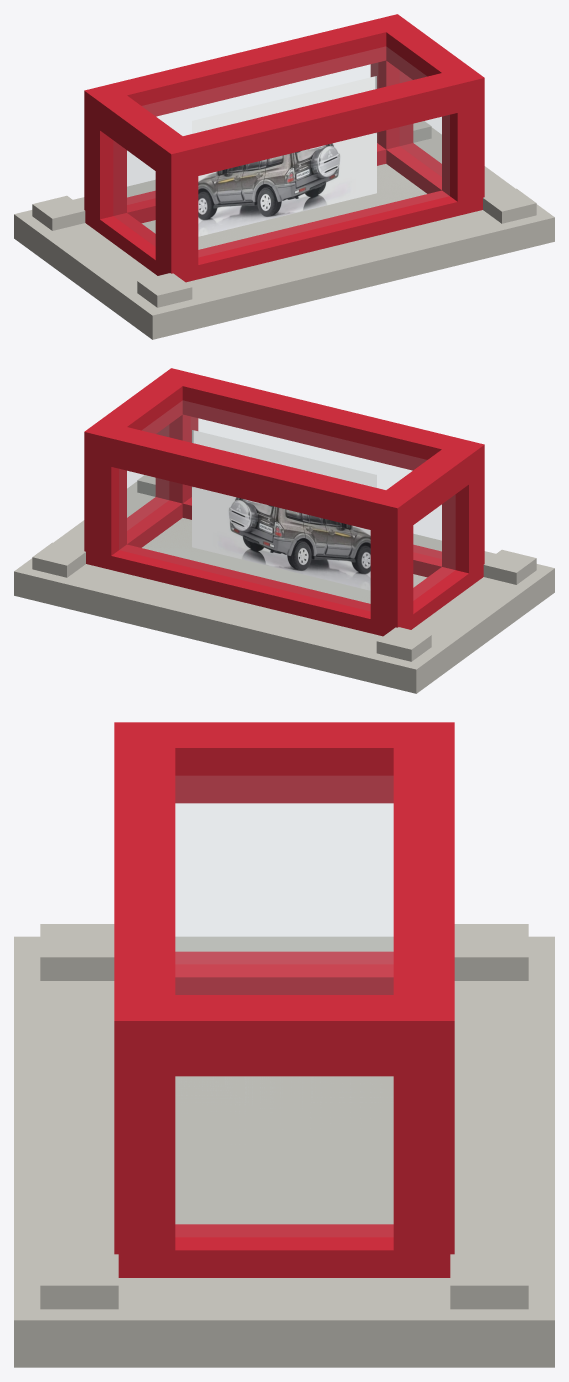
File: mitsubishi-pajero.glb
3 renders of one model, top to bottom at view 1: azimuth 30°, elevation 25°; view 2: azimuth 150°, elevation 25°; view 3: azimuth 270°, elevation 25°, orthographic. The views are drawn at different scales.
Bounding box in the file's own units: 0.104 × 0.0385 × 0.062.
4 materials, 1 textured.
